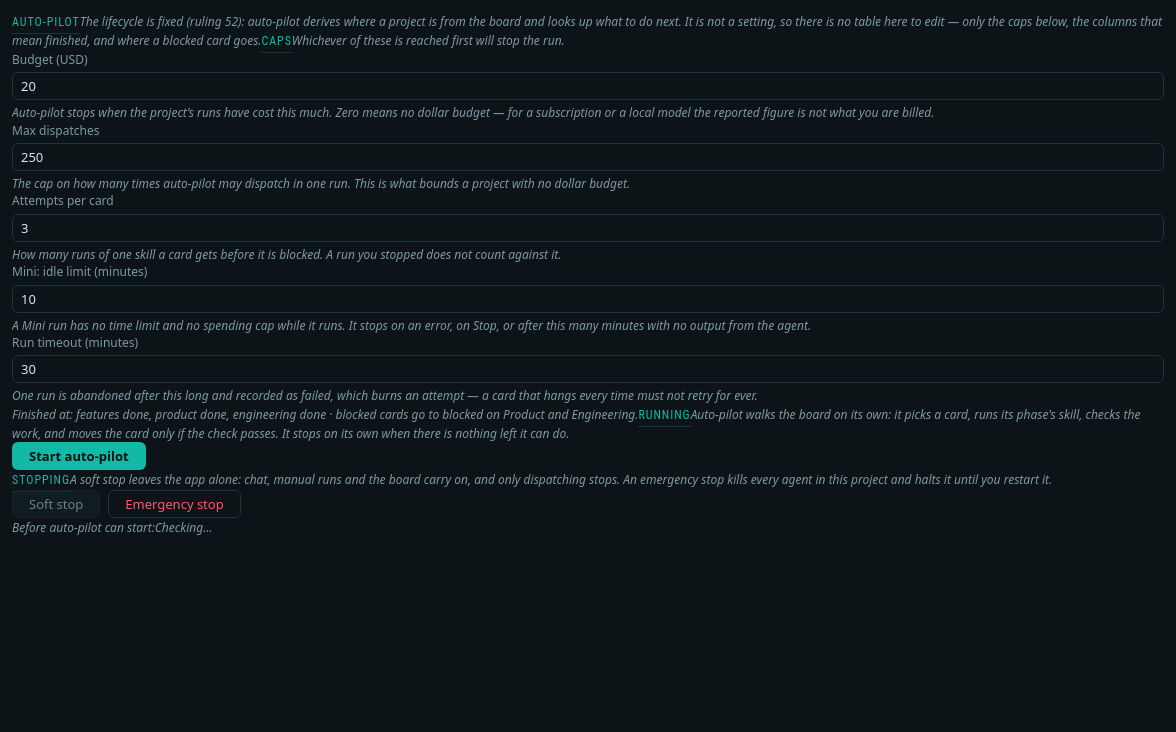
Test: the start control › shows the server’s refusal verbatim, because it names what to fix
This screenshot has width=1176, height=732.
Click the button "Start auto-pilot" at (79, 456), box x1=12 y1=442 x2=146 y2=470
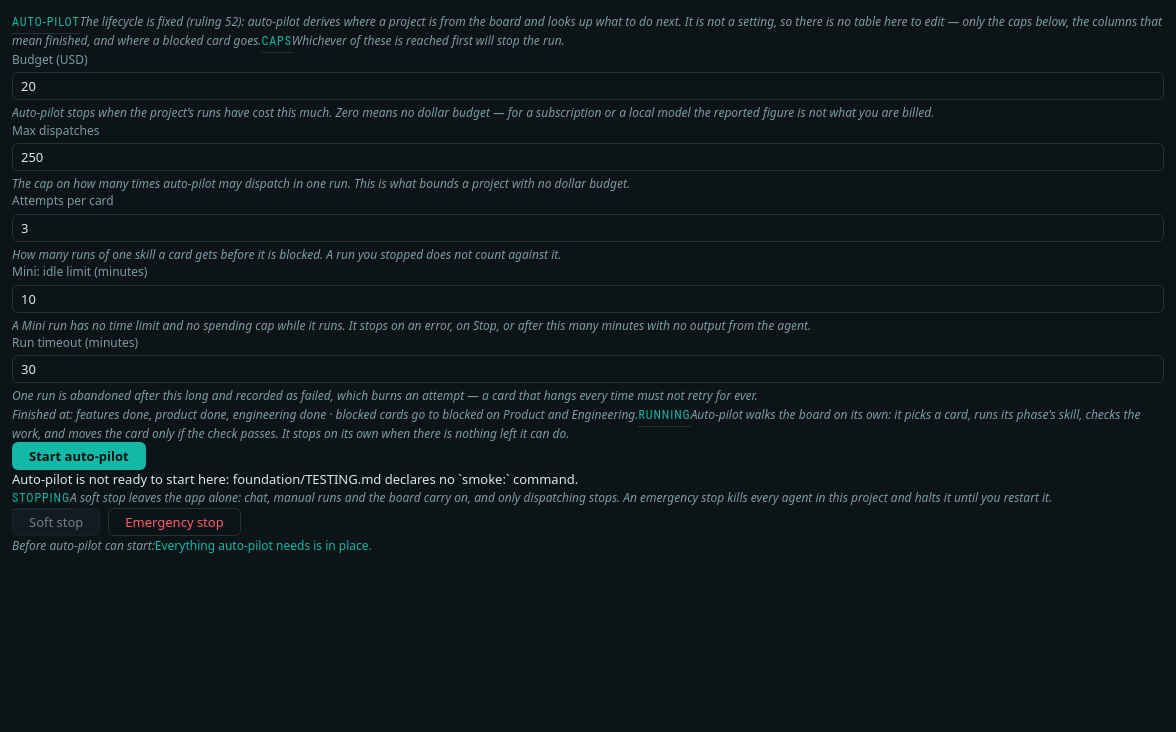
Result: the text "declares no `smoke:` command" is shown at x1=12 y1=470 x2=578 y2=488
